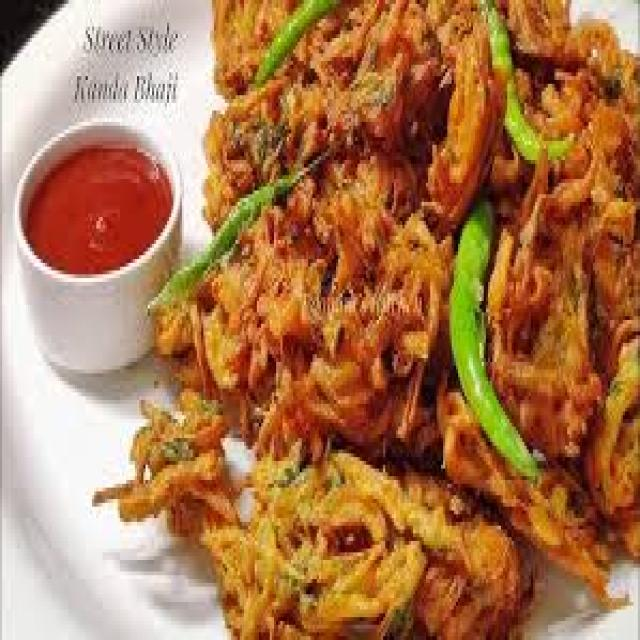BAJI: (175, 0, 638, 571), (207, 467, 524, 624), (107, 405, 219, 540)
